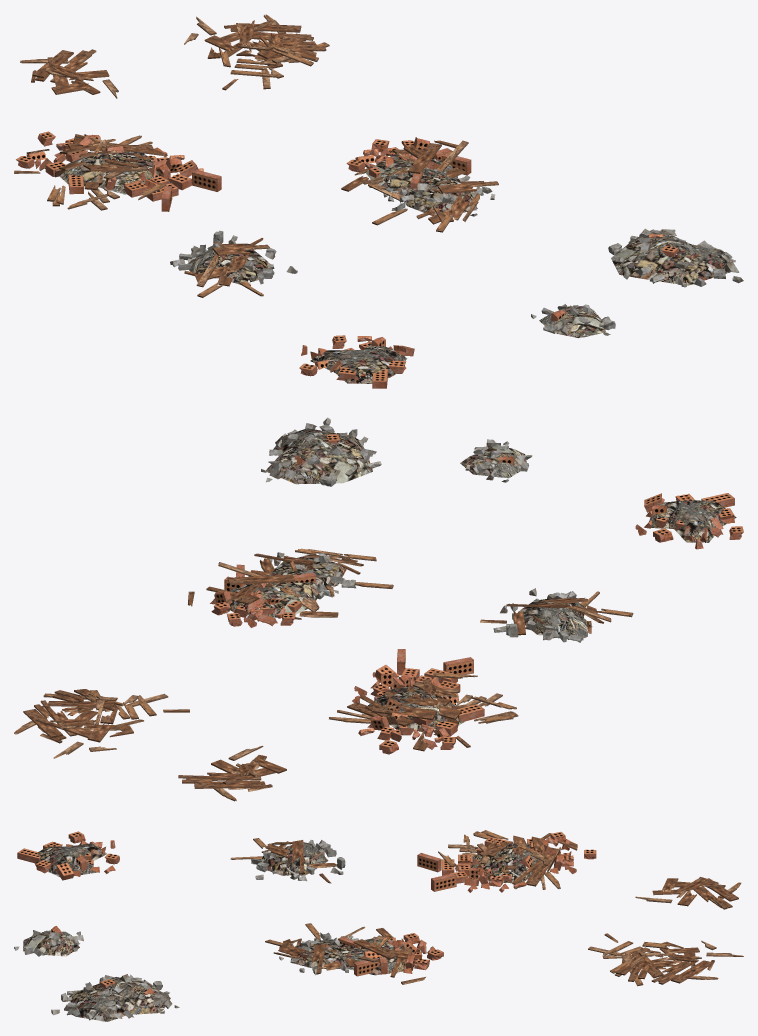
The model's file is Debris_v1.FBX.
3 renders of one model, top to bottom at view 1: azimuth 30°, elevation 25°; view 2: azimuth 150°, elevation 25°; view 3: azimuth 270°, elevation 25°, orthographic. The views are drawn at different scales.
Parts seen in each view (by area): view 1: Debris_v1_6, Debris_v1_4, Debris_v1_1, Debris_v1_7, Debris_v1_5, Debris_v1_3, Debris_v1_8, Debris_v1_2; view 2: Debris_v1_6, Debris_v1_4, Debris_v1_1, Debris_v1_7, Debris_v1_5, Debris_v1_3, Debris_v1_8, Debris_v1_2; view 3: Debris_v1_6, Debris_v1_4, Debris_v1_1, Debris_v1_7, Debris_v1_5, Debris_v1_3, Debris_v1_8, Debris_v1_2.
Part boxes in pixels (box(x1,y1,x2,y2)): Debris_v1_6: box(14, 131, 221, 211); Debris_v1_4: box(341, 137, 498, 232); Debris_v1_1: box(608, 228, 743, 287); Debris_v1_7: box(184, 14, 329, 90); Debris_v1_5: box(170, 230, 297, 297); Debris_v1_3: box(299, 335, 414, 388); Debris_v1_8: box(20, 49, 118, 98); Debris_v1_2: box(531, 304, 615, 338); Debris_v1_6: box(329, 649, 518, 754); Debris_v1_4: box(188, 548, 393, 627); Debris_v1_1: box(261, 417, 381, 486); Debris_v1_7: box(14, 689, 189, 758); Debris_v1_5: box(480, 588, 633, 642); Debris_v1_3: box(635, 493, 743, 549); Debris_v1_8: box(178, 745, 286, 801); Debris_v1_2: box(460, 439, 532, 482); Debris_v1_6: box(417, 830, 596, 892); Debris_v1_4: box(265, 923, 443, 984); Debris_v1_1: box(51, 974, 179, 1021); Debris_v1_7: box(588, 933, 743, 986); Debris_v1_5: box(230, 838, 345, 883); Debris_v1_3: box(17, 831, 119, 880); Debris_v1_8: box(635, 877, 741, 909); Debris_v1_2: box(14, 926, 83, 956).
Bounding box in the file's own units: 9.23 × 0.447 × 15.03.
